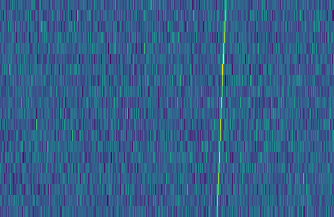signal: (213, 0, 231, 217)
